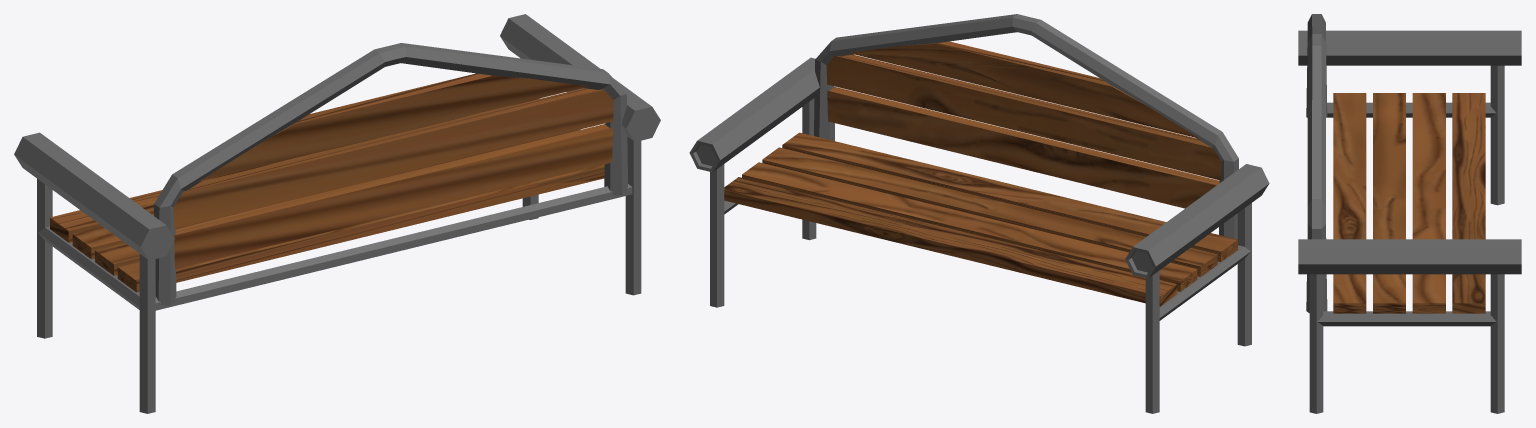
The model's file is prop_bench.fbx.
3 views of the same model, side by side, from view 1: azimuth 30°, elevation 25°; view 2: azimuth 150°, elevation 25°; view 3: azimuth 270°, elevation 25° (orthographic). The views are drawn at different scales.
Parts seen in each view (by area): view 1: bench; view 2: bench; view 3: bench.
Part boxes in pixels (x1=…): bench: x1=14, y1=14, x2=660, y2=413; bench: x1=689, y1=14, x2=1269, y2=413; bench: x1=1298, y1=14, x2=1521, y2=413.
Size of the model in its own units: 175 by 97.3 by 73.83.
2 materials, 1 textured.
